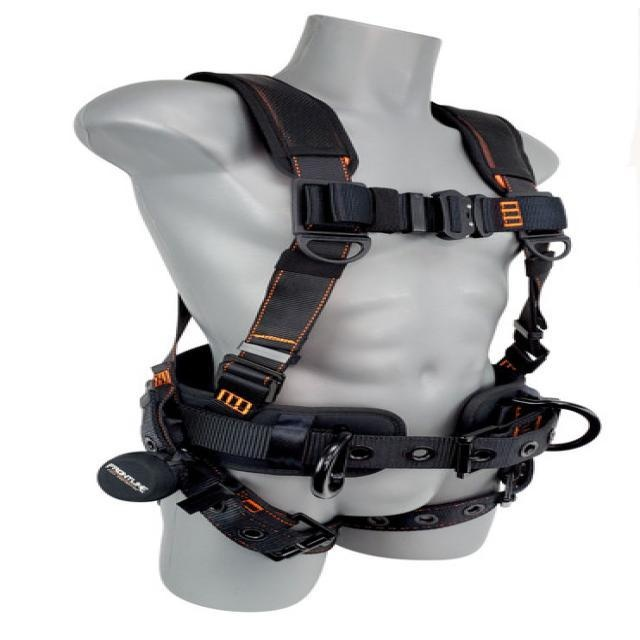Arnes_seguridad: (94, 70, 608, 563)
